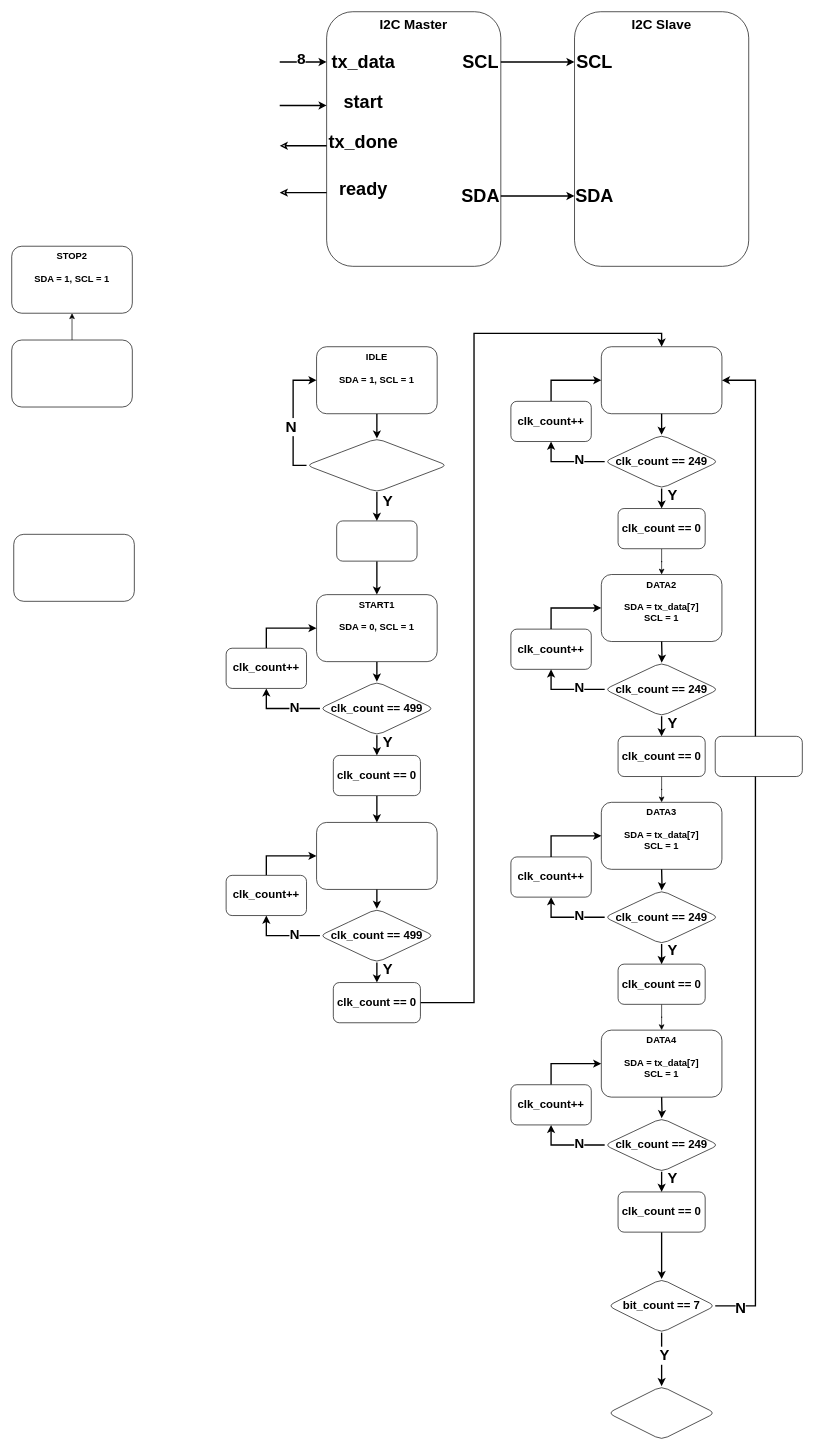
Image size: 814x1452. Some labels were removed from this diagram. Each missing label, with the centre of its shape:
ACK == 1: the point at 661,1413
bit_count++: the point at 758,756
DATA1 SDA = tx_data[7] SCL = 0: the point at 661,380
START2 SDA = 0, SCL = 0: the point at 376,855
start==1: the point at 376,465
STOP1 SDA = 0, SCL = 1: the point at 71,373
temp = tx_data: the point at 376,540
WAIT SDA = 0, SCL = 0: the point at 73,567
